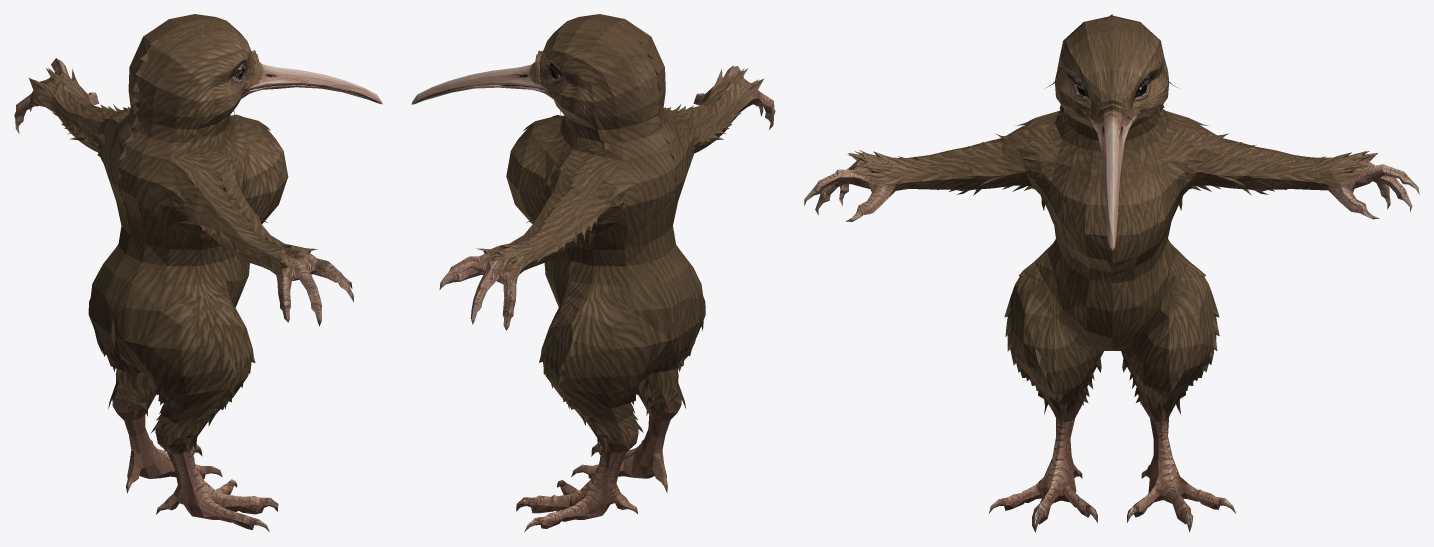
Rendered from bird-female.glb.
3 renders of one model, left to right at view 1: azimuth 30°, elevation 25°; view 2: azimuth 150°, elevation 25°; view 3: azimuth 270°, elevation 25°, orthographic. The views are drawn at different scales.
Parts seen in each view (by area): view 1: tripo_node_4cdb848f-7d89-451b-b970-2f90721f482b; view 2: tripo_node_4cdb848f-7d89-451b-b970-2f90721f482b; view 3: tripo_node_4cdb848f-7d89-451b-b970-2f90721f482b.
Boxes of the visible parts, left/top/right/bottom form: tripo_node_4cdb848f-7d89-451b-b970-2f90721f482b: left=14, top=14, right=382, bottom=532; tripo_node_4cdb848f-7d89-451b-b970-2f90721f482b: left=411, top=14, right=775, bottom=532; tripo_node_4cdb848f-7d89-451b-b970-2f90721f482b: left=804, top=14, right=1419, bottom=532.
Size of the model in its own units: 0.541 by 0.8691 by 0.998.
1 material, 1 textured.
